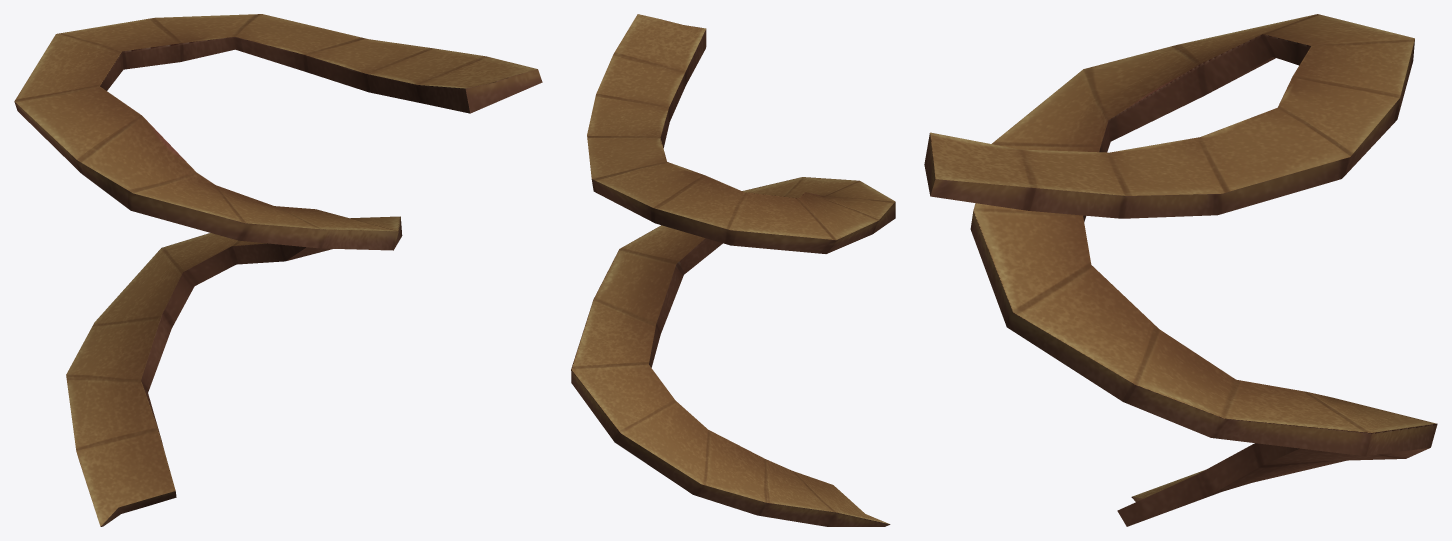
The model's file is grootst draaibrugje.FBX.
The picture shows the model from 3 angles, left to right: view 1: azimuth 30°, elevation 25°; view 2: azimuth 150°, elevation 25°; view 3: azimuth 270°, elevation 25°; orthographic projection. The views are drawn at different scales.
Visible parts, largest first — view 1: Box012; view 2: Box012; view 3: Box012.
Part boxes in pixels (x1,y1,x2,y2): Box012: (14,14,542,526); Box012: (571,14,895,526); Box012: (924,14,1437,526).
Bounding box in the file's own units: 44.3 × 48.39 × 41.37.
